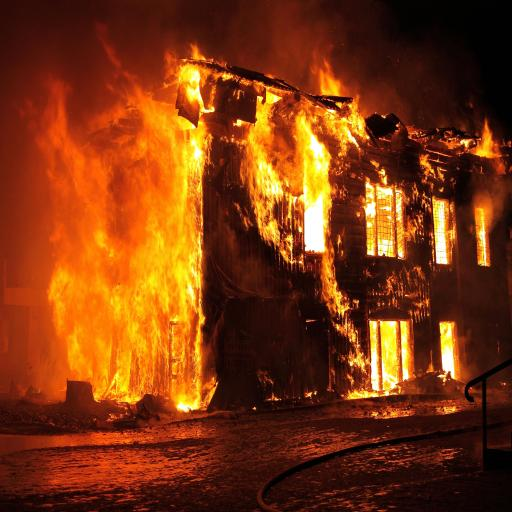buildingfire: (1, 1, 512, 420)
fire: (41, 88, 212, 411), (120, 97, 193, 317), (49, 147, 112, 337), (296, 118, 331, 209), (368, 312, 406, 393), (473, 110, 497, 170)
